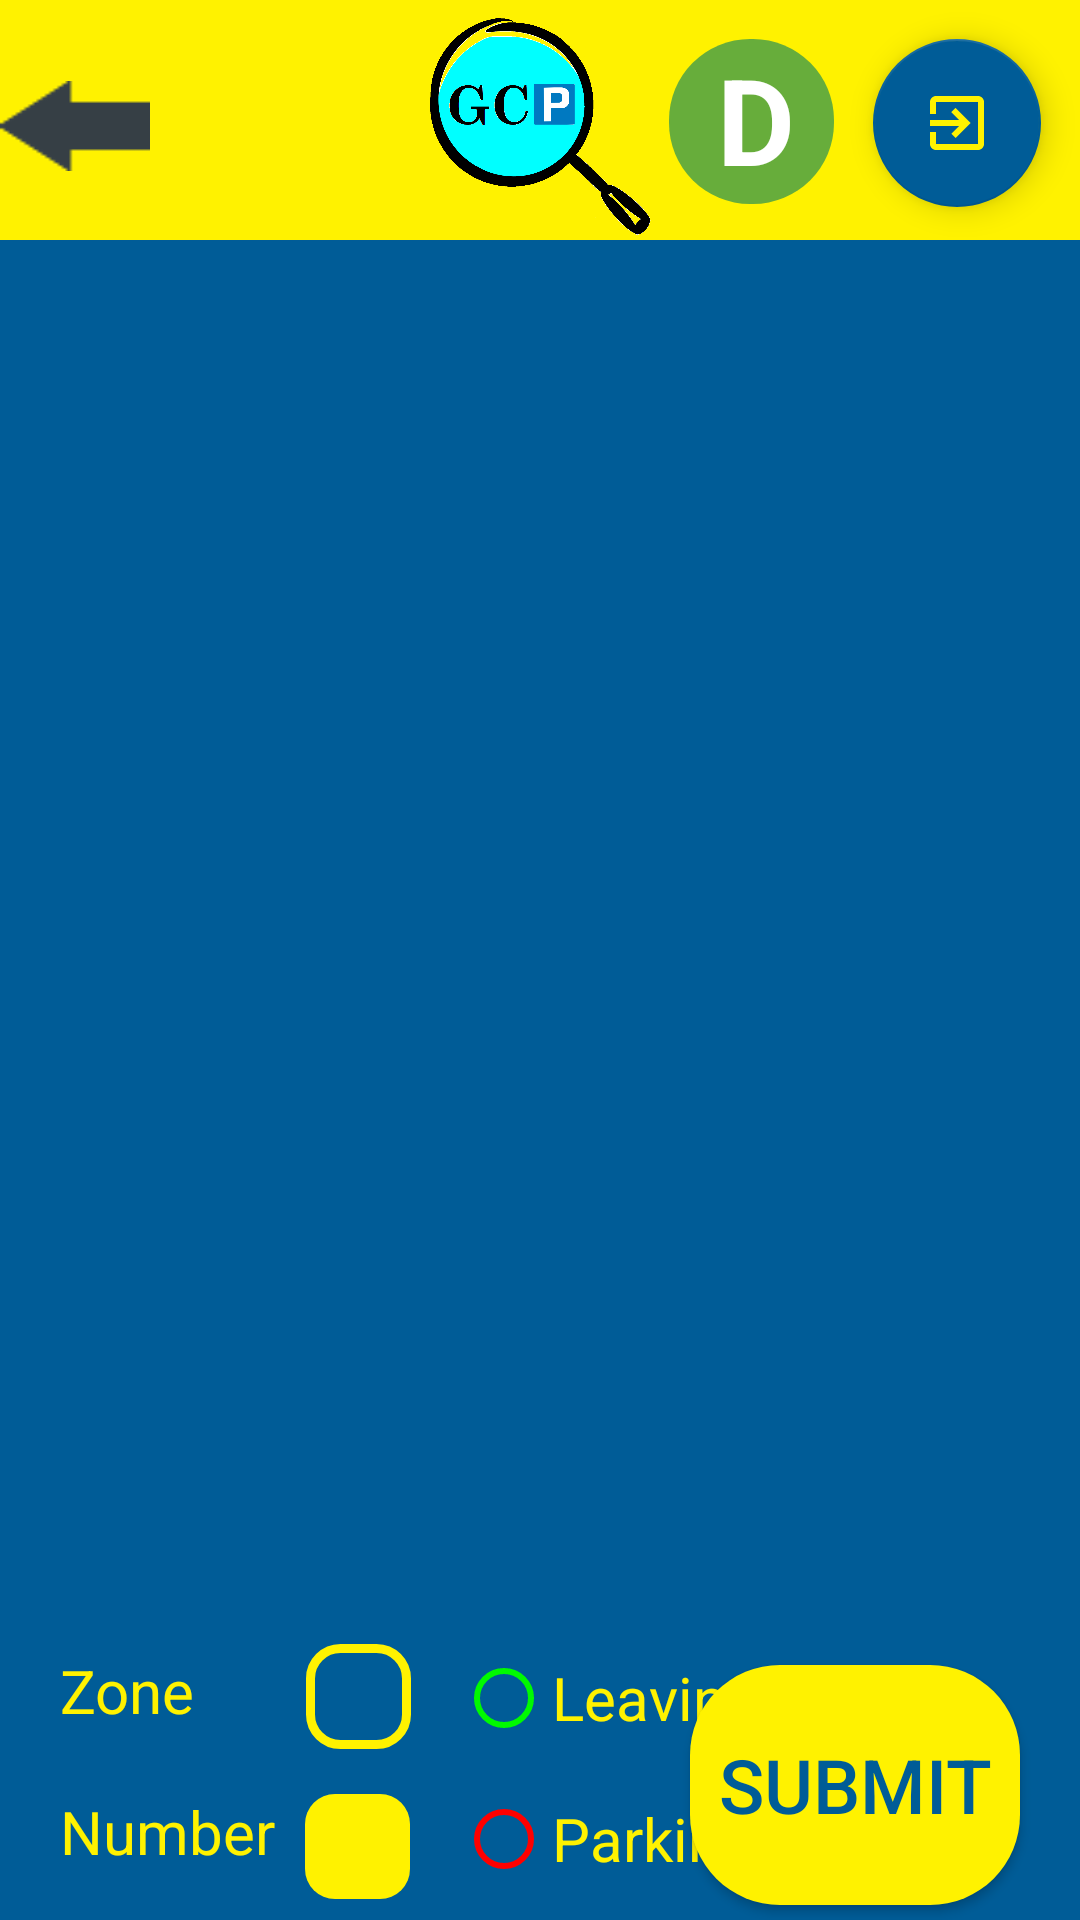

Named icons in this screenshot (1080px x 1920px) and their bounding boxes, rect(x1, y1, x2, y2):
back: rect(0, 81, 150, 171)
exit: rect(873, 39, 1041, 207)
